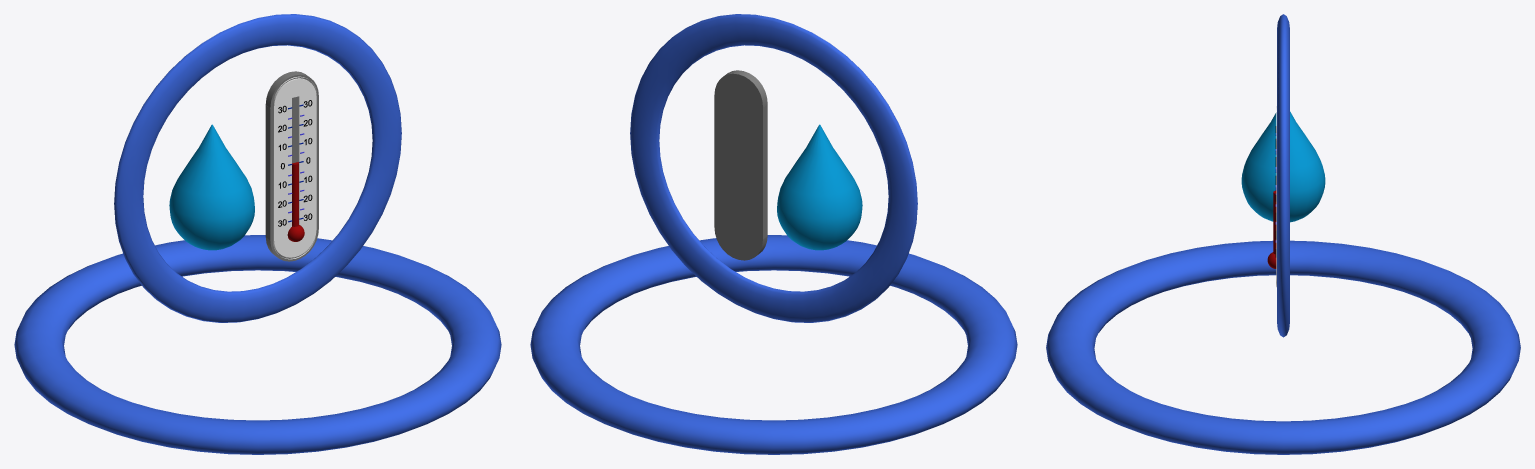
File: humedad.fbx
3 views of the same model, side by side, from view 1: azimuth 30°, elevation 25°; view 2: azimuth 150°, elevation 25°; view 3: azimuth 270°, elevation 25° (orthographic). The views are drawn at different scales.
Visible parts, largest first — view 1: Rosca.013, pSphere4.004, Rectangle001_2_0, Circle001_153_0; view 2: Rosca.013, Circle001_153_0, pSphere4.004; view 3: Rosca.013, pSphere4.004.
Part boxes in pixels (<box>): Rosca.013: <box>14,14,501,454</box>; pSphere4.004: <box>169,124,254,250</box>; Rectangle001_2_0: <box>273,76,316,259</box>; Circle001_153_0: <box>265,71,318,261</box>; Rosca.013: <box>530,14,1017,454</box>; Circle001_153_0: <box>714,70,767,260</box>; pSphere4.004: <box>777,124,862,250</box>; Rosca.013: <box>1046,14,1520,454</box>; pSphere4.004: <box>1241,111,1325,222</box>.
Size of the model in its own units: 6.1 by 4.71 by 6.1.
